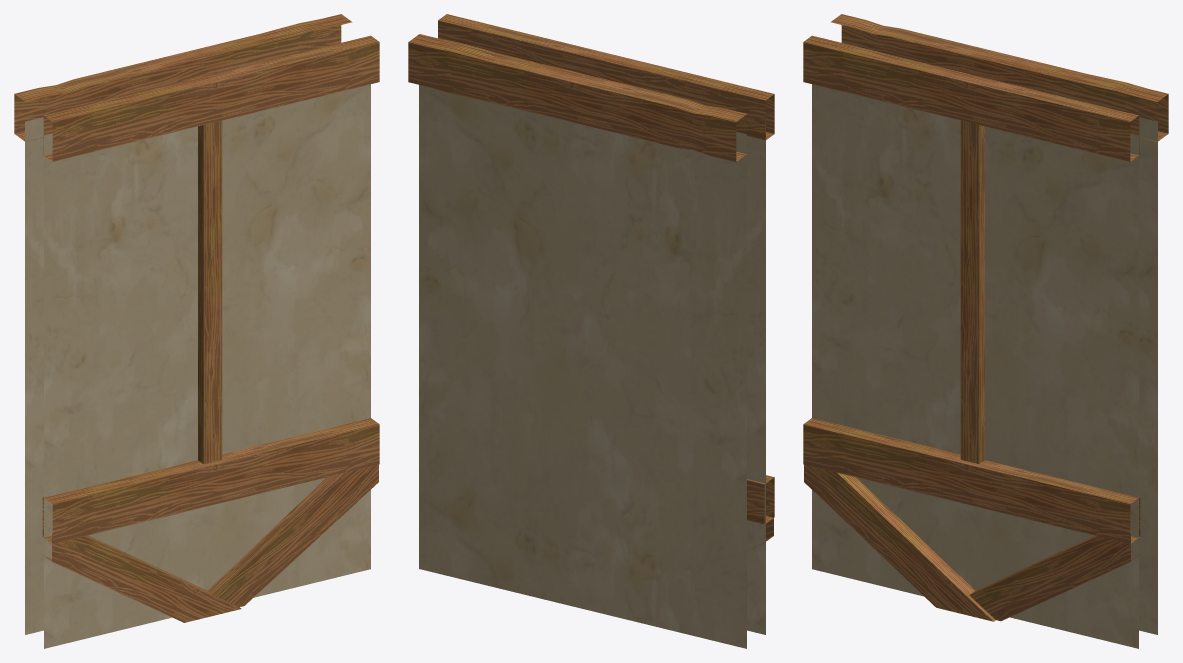
Rendered from Wall_Plaster_Straight.gltf.
The picture shows the model from 3 angles, left to right: view 1: azimuth 30°, elevation 25°; view 2: azimuth 150°, elevation 25°; view 3: azimuth 330°, elevation 25°; orthographic projection.
Visible parts, largest first — view 1: Wall_Plaster_Straight; view 2: Wall_Plaster_Straight; view 3: Wall_Plaster_Straight.
Boxes of the visible parts, box(x1,y1,x2,y2) form: Wall_Plaster_Straight: box(14, 14, 379, 648); Wall_Plaster_Straight: box(408, 14, 774, 648); Wall_Plaster_Straight: box(803, 14, 1168, 648).
Bounding box in the file's own units: 2 × 3.12 × 0.4066.
2 materials, 2 textured.
